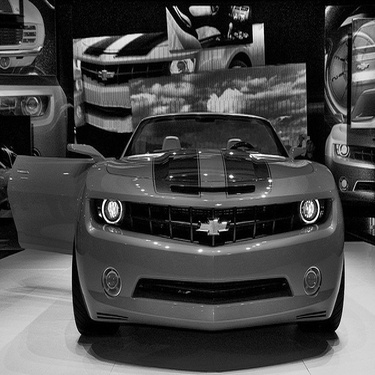car: (79, 87, 344, 342), (1, 53, 72, 205), (327, 82, 375, 239)
